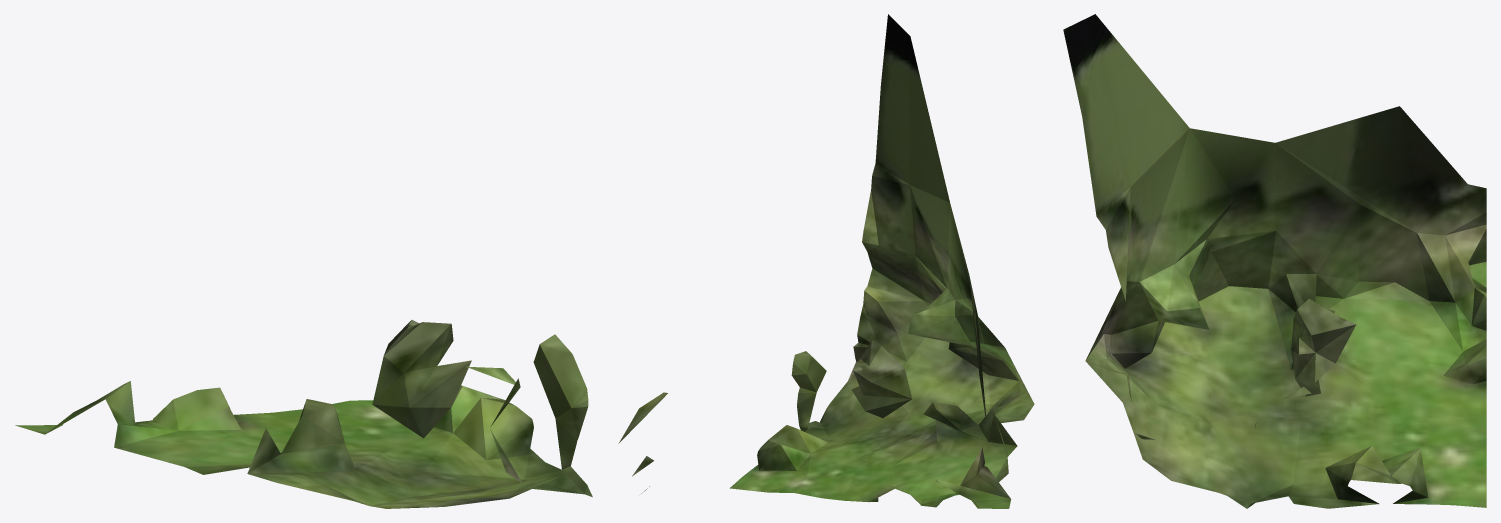
3 renders of one model, left to right at view 1: azimuth 30°, elevation 25°; view 2: azimuth 150°, elevation 25°; view 3: azimuth 270°, elevation 25°, orthographic. The views are drawn at different scales.
Bounding box in the file's own units: 37.36 × 45.8 × 36.67.
Materials: 1 (1 with a texture image).
